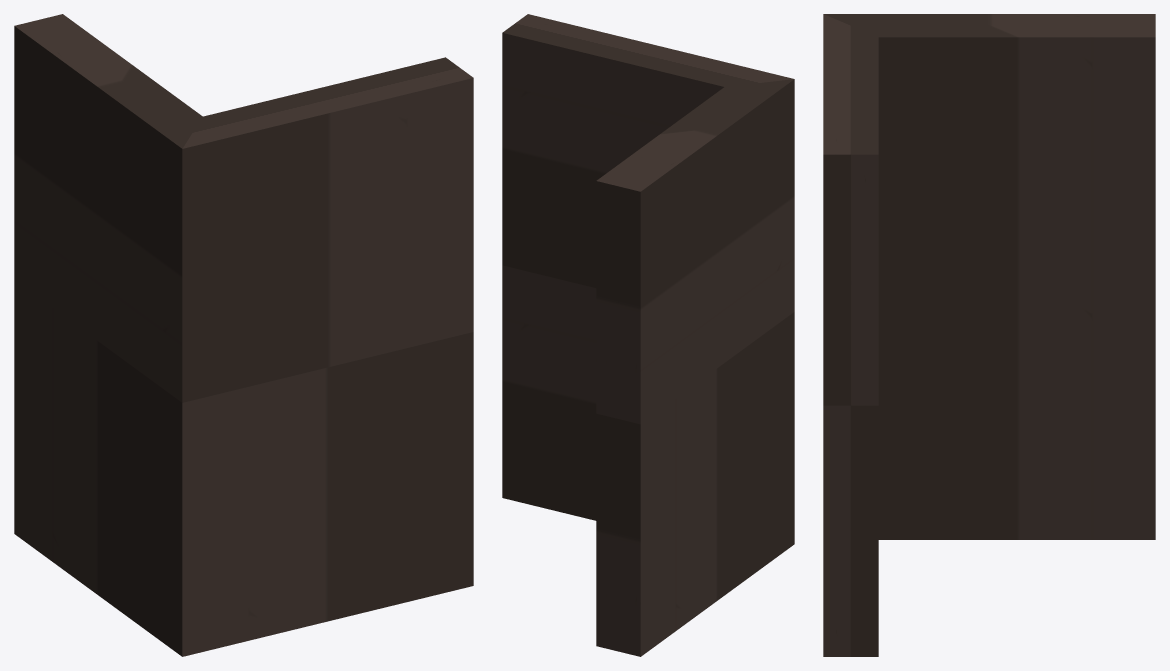
File: corner ext.fbx
The picture shows the model from 3 angles, left to right: view 1: azimuth 30°, elevation 25°; view 2: azimuth 150°, elevation 25°; view 3: azimuth 270°, elevation 25°; orthographic projection. The views are drawn at different scales.
Parts seen in each view (by area): view 1: SketchUp; view 2: SketchUp; view 3: SketchUp.
Part boxes in pixels (x1,y1,x2,y2): SketchUp: (14,14,473,656); SketchUp: (502,14,794,656); SketchUp: (823,14,1155,656).
Size of the model in its own units: 120 by 200 by 120.
